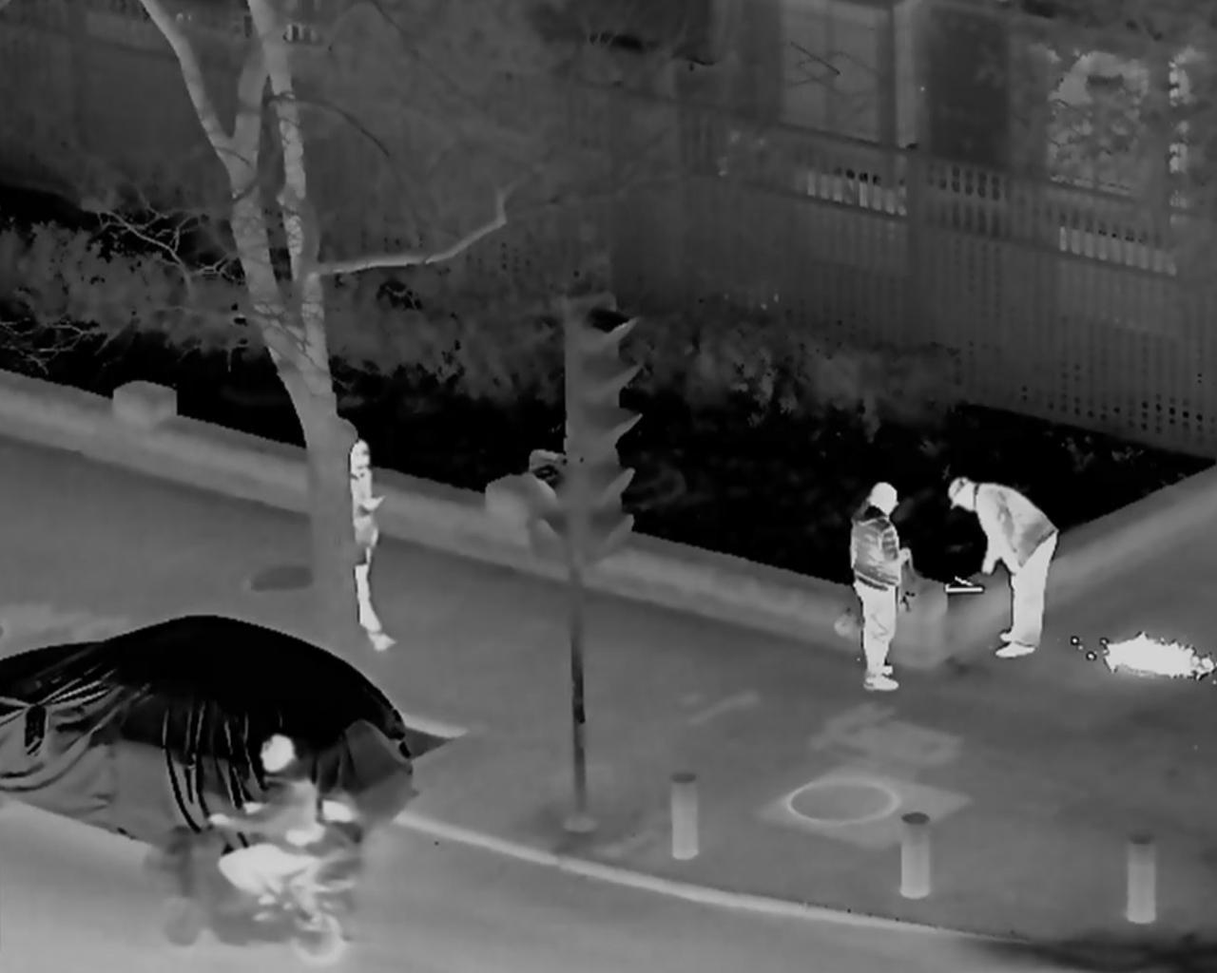person: (946, 479, 1057, 664), (203, 735, 313, 914), (842, 478, 917, 696), (330, 439, 404, 658), (288, 787, 362, 932)
